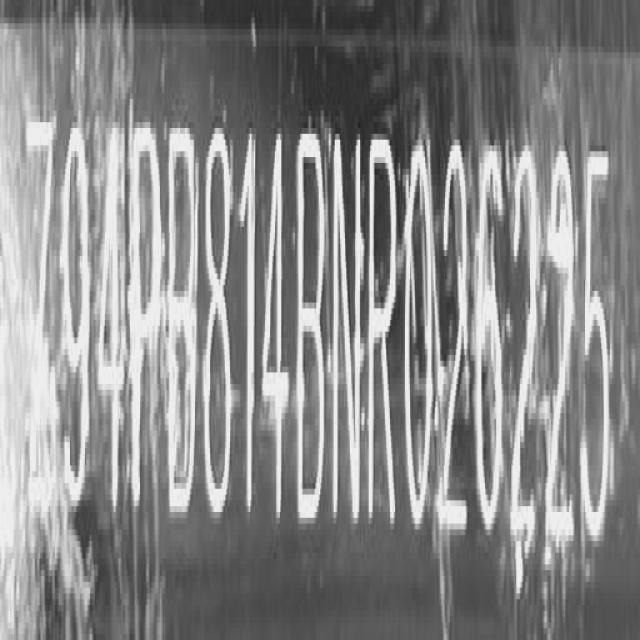0: (404, 135, 436, 542)
1: (238, 126, 255, 527)
2: (510, 140, 544, 550), (548, 140, 580, 558), (442, 131, 472, 543)
4: (261, 127, 293, 533), (99, 119, 125, 528)
5: (583, 143, 615, 555)
6: (473, 136, 508, 534)
8: (203, 126, 234, 523)
9: (62, 114, 90, 515)
B: (165, 121, 202, 518), (296, 125, 329, 533)
N: (331, 127, 364, 533)
P: (128, 115, 162, 521)
R: (369, 130, 402, 534)
Z: (28, 103, 58, 513)
